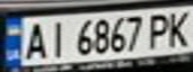6: (72, 16, 96, 56), (109, 15, 130, 54)
7: (124, 12, 148, 52)
8: (90, 16, 112, 55)
A: (18, 19, 51, 61)
I: (42, 17, 69, 60)
K: (163, 8, 193, 47)
P: (145, 10, 175, 49)
